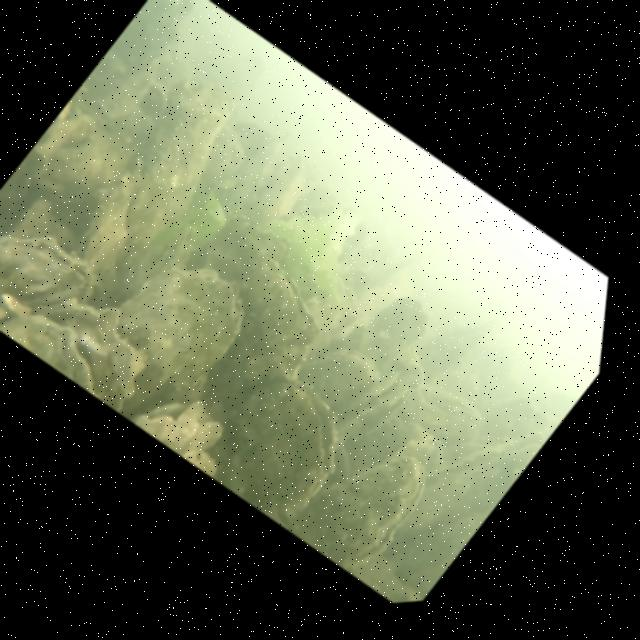Oyster-Closed: (60, 230, 275, 450), (158, 246, 352, 445), (280, 419, 446, 587), (36, 155, 183, 310), (0, 187, 115, 365), (185, 196, 301, 306), (103, 207, 210, 323), (285, 326, 389, 429), (390, 367, 495, 463)
Oyster-Indeterminate: (62, 58, 268, 279), (38, 78, 165, 208), (343, 279, 442, 381)
Oyster-Open: (367, 388, 553, 590), (187, 354, 375, 539), (0, 253, 174, 421), (125, 370, 254, 486), (319, 356, 416, 459)
